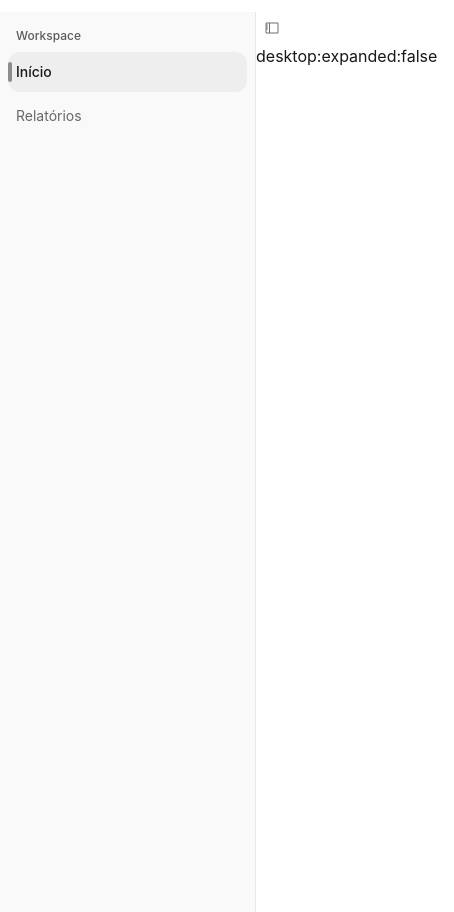
Test: Sidebar › no desktop, o gatilho recolhe e persiste o estado
Expected: the text named "Estado da sidebar" reads "desktop:expanded:false", [256, 46, 437, 66]
Click the button named "Toggle Sidebar".
click(255, 462)  # box [247, 12, 263, 911]
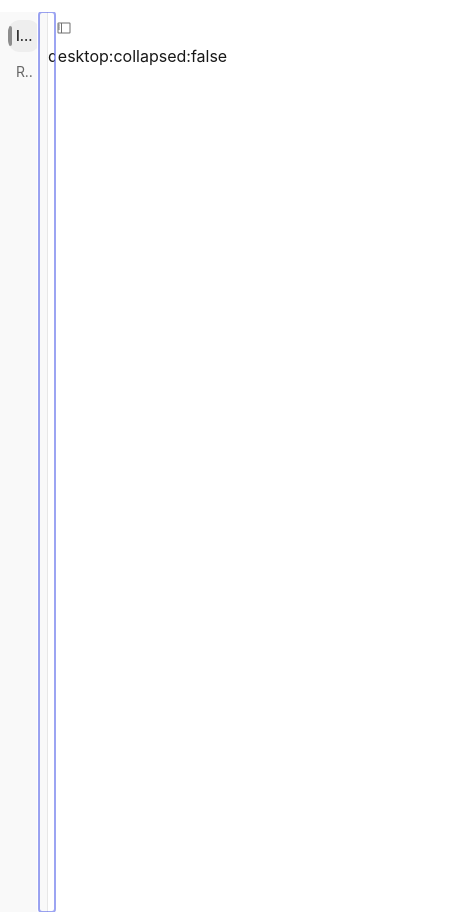
Result: the text named "Estado da sidebar" reads "desktop:collapsed:false" at [48, 46, 227, 66]
